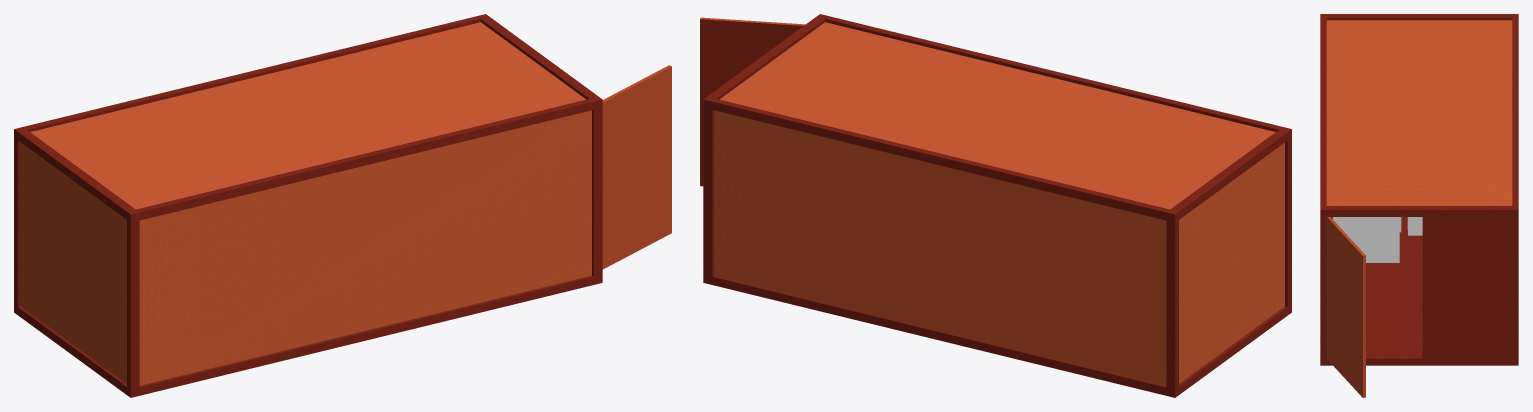
The model's file is office-container-long.glb.
The picture shows the model from 3 angles, left to right: view 1: azimuth 30°, elevation 25°; view 2: azimuth 150°, elevation 25°; view 3: azimuth 270°, elevation 25°; orthographic projection. The views are drawn at different scales.
Visible parts, largest first — view 1: Office Container.005; view 2: Office Container.005; view 3: Office Container.005.
Part boxes in pixels (bbox=[...]): Office Container.005: bbox=[14, 14, 671, 397]; Office Container.005: bbox=[700, 14, 1291, 397]; Office Container.005: bbox=[1320, 14, 1518, 397].
Bounding box in the file's own units: 8.4 × 2.6 × 3.
1 material, 1 textured.
